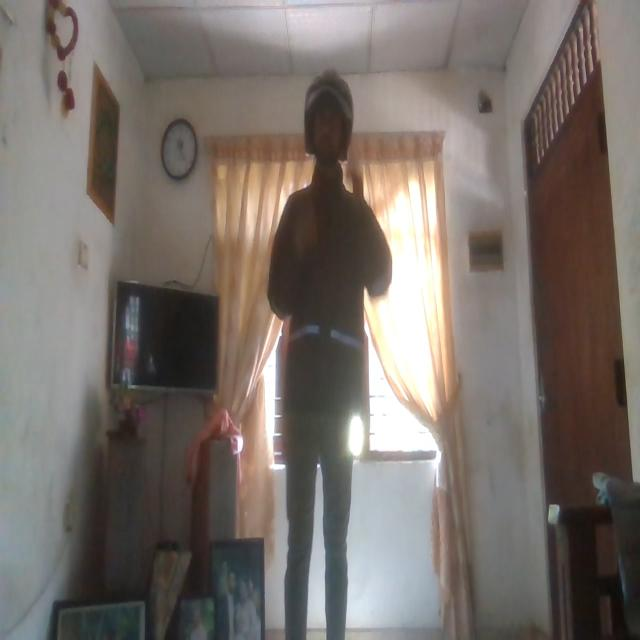Helmet_Wearer: (304, 62, 359, 182)
Jacket_Wearer: (265, 176, 390, 452)
Person: (270, 65, 386, 640)
